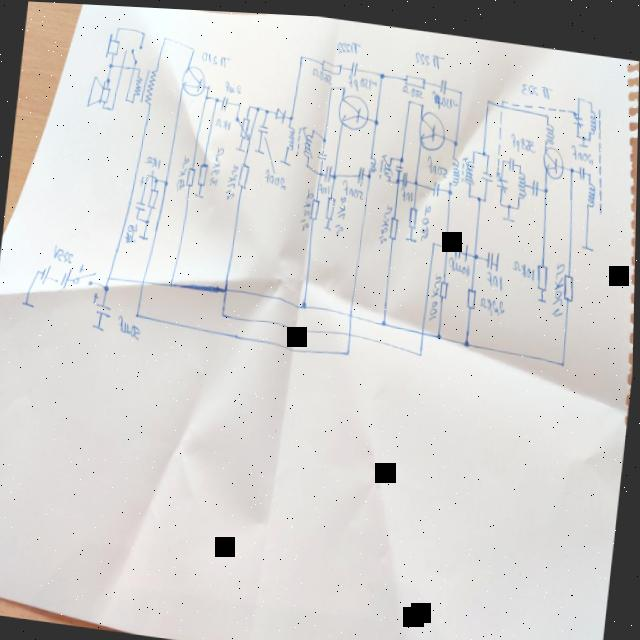capacitor: (90, 287, 115, 316), (133, 171, 149, 210), (494, 162, 511, 187), (451, 233, 464, 257), (571, 100, 585, 121), (484, 241, 494, 266), (436, 70, 449, 89), (480, 161, 496, 176), (257, 116, 270, 133), (323, 158, 333, 178), (357, 158, 366, 180), (349, 53, 359, 72), (506, 148, 516, 167), (219, 91, 230, 108), (531, 171, 540, 190), (432, 173, 441, 192), (577, 156, 587, 171), (316, 145, 329, 156), (401, 166, 408, 183), (395, 158, 403, 167)
crossover: (223, 280, 230, 290), (420, 322, 427, 331), (346, 325, 354, 332), (118, 60, 125, 68), (130, 61, 136, 70), (140, 275, 147, 282), (348, 305, 354, 312), (500, 94, 505, 102)
diode: (274, 101, 286, 119)
ground: (494, 243, 502, 266), (21, 297, 36, 307), (91, 319, 105, 329), (278, 152, 292, 162), (502, 207, 517, 216), (580, 236, 595, 245), (193, 186, 205, 196), (253, 142, 266, 151), (233, 141, 246, 149), (405, 229, 418, 237), (138, 230, 149, 238), (577, 134, 589, 141), (323, 219, 333, 227), (537, 289, 547, 296)
inductor: (577, 94, 616, 220), (516, 164, 529, 192)
junction: (463, 331, 472, 342), (300, 294, 308, 305), (234, 108, 241, 119), (436, 325, 444, 334), (378, 65, 386, 74), (569, 156, 576, 166), (473, 244, 480, 254), (452, 132, 460, 140), (444, 236, 451, 245), (543, 178, 550, 187), (108, 57, 114, 67), (345, 343, 352, 351), (448, 181, 455, 189), (481, 142, 488, 150), (321, 130, 328, 138), (163, 175, 170, 183), (103, 281, 110, 289), (381, 313, 388, 321), (168, 278, 175, 286), (331, 167, 338, 175), (264, 102, 270, 111), (341, 77, 347, 86), (476, 188, 483, 195), (105, 271, 112, 278), (144, 214, 151, 221), (317, 165, 324, 172), (203, 90, 210, 97), (373, 112, 379, 120), (413, 172, 419, 180), (419, 344, 425, 352), (506, 194, 512, 202), (140, 26, 146, 34), (485, 90, 491, 98), (485, 144, 491, 152), (221, 306, 227, 314), (153, 172, 159, 180), (35, 266, 41, 274), (431, 233, 437, 241), (399, 149, 405, 157), (214, 92, 220, 100), (135, 308, 141, 315), (588, 91, 594, 98), (406, 92, 412, 99), (562, 352, 567, 360), (305, 156, 310, 164), (329, 78, 334, 86), (255, 100, 260, 108), (395, 170, 400, 178), (289, 109, 294, 117), (134, 211, 140, 217), (545, 105, 551, 111), (515, 198, 521, 204), (299, 48, 304, 55), (458, 82, 463, 89), (576, 87, 581, 94), (163, 31, 168, 38), (499, 193, 504, 200), (472, 141, 477, 148), (467, 185, 472, 192), (483, 189, 488, 196), (246, 99, 251, 106), (587, 127, 592, 134), (501, 150, 506, 157), (366, 167, 371, 174), (206, 79, 211, 86), (110, 103, 115, 109), (116, 23, 121, 29), (191, 43, 196, 49), (124, 93, 129, 99), (146, 169, 151, 175), (419, 95, 424, 101), (575, 124, 580, 130), (581, 127, 586, 133), (518, 155, 523, 161), (236, 97, 241, 103)
resistor: (237, 110, 253, 140), (562, 264, 577, 295), (403, 66, 427, 85), (320, 52, 343, 71), (535, 255, 549, 285), (147, 182, 161, 210), (237, 157, 250, 185), (197, 157, 210, 185), (388, 208, 401, 235), (543, 113, 557, 138), (324, 189, 336, 216), (407, 199, 418, 226), (438, 273, 450, 297), (466, 280, 478, 304), (185, 161, 197, 184), (310, 190, 320, 217)
source: (40, 260, 73, 289)
switch: (73, 265, 97, 286), (124, 39, 143, 61)
text: (550, 253, 568, 310), (519, 72, 554, 95), (427, 82, 459, 107), (428, 265, 443, 317), (208, 139, 225, 183), (507, 124, 538, 148), (116, 312, 144, 337), (478, 288, 508, 311), (334, 188, 349, 234), (378, 195, 393, 240), (424, 147, 451, 172), (299, 181, 314, 226), (200, 45, 231, 66), (413, 43, 444, 64), (262, 163, 289, 187), (511, 252, 537, 276), (340, 172, 366, 196), (347, 67, 378, 87), (446, 248, 472, 271), (225, 156, 239, 197), (176, 149, 190, 190), (569, 137, 595, 158), (484, 262, 506, 286), (52, 242, 77, 263), (420, 197, 433, 237), (309, 60, 333, 81), (335, 34, 361, 51), (401, 77, 426, 94), (143, 149, 164, 166), (124, 218, 139, 241), (223, 76, 242, 91), (400, 179, 415, 197), (214, 113, 232, 127), (317, 176, 331, 190), (78, 259, 86, 270)
transformer: (130, 60, 158, 105), (284, 118, 316, 157), (449, 145, 478, 181), (367, 145, 395, 177)
transistor: (336, 86, 371, 127), (417, 103, 447, 145), (180, 60, 207, 94)
